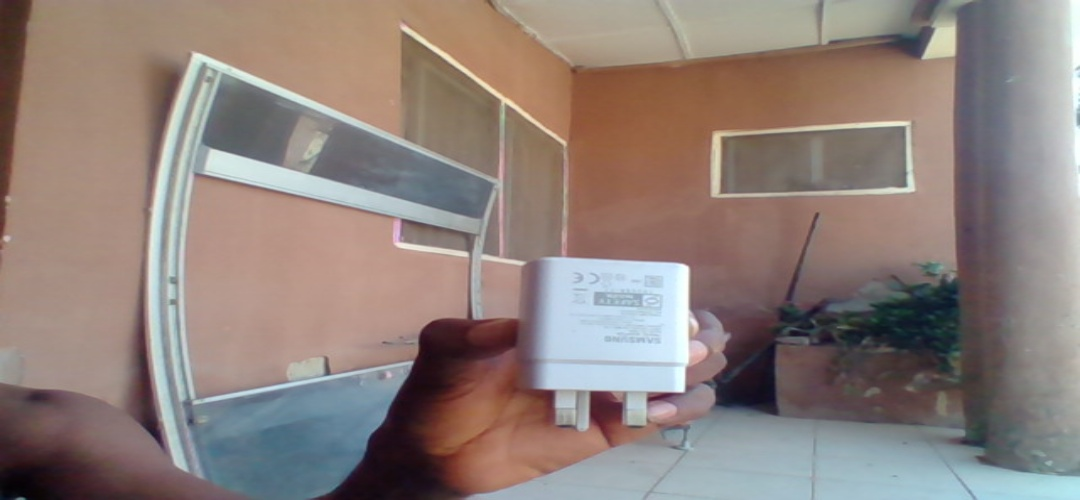phone_charger: (513, 259, 692, 433)
